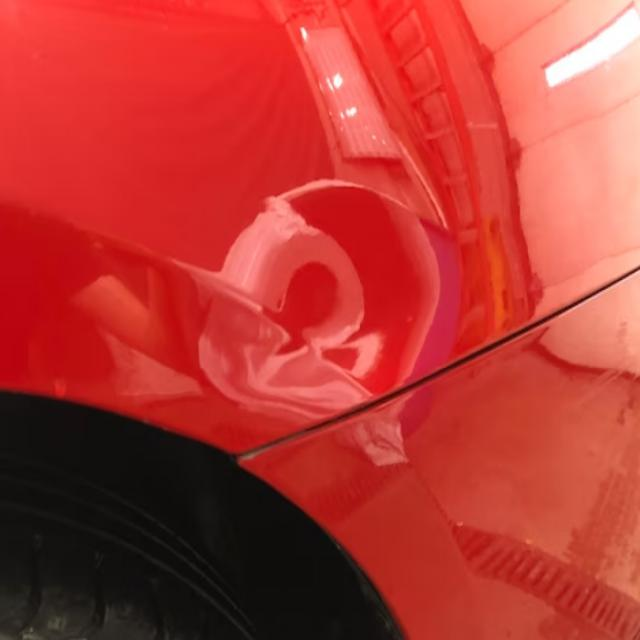dents: (201, 166, 457, 464)
